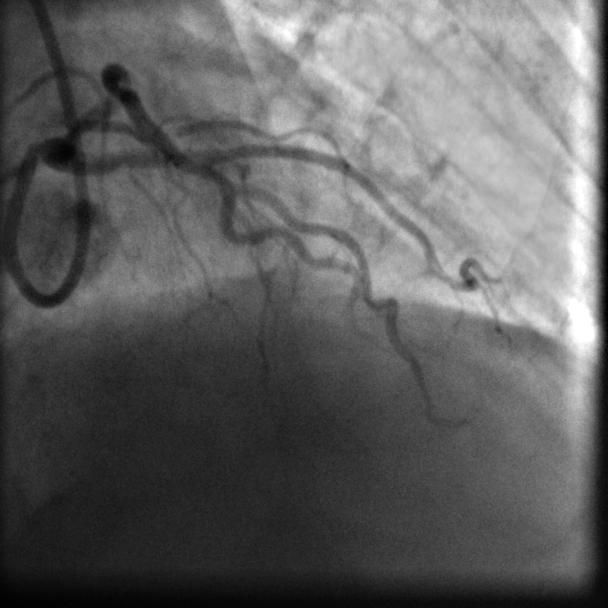Stenosis: (101, 76, 134, 101)
